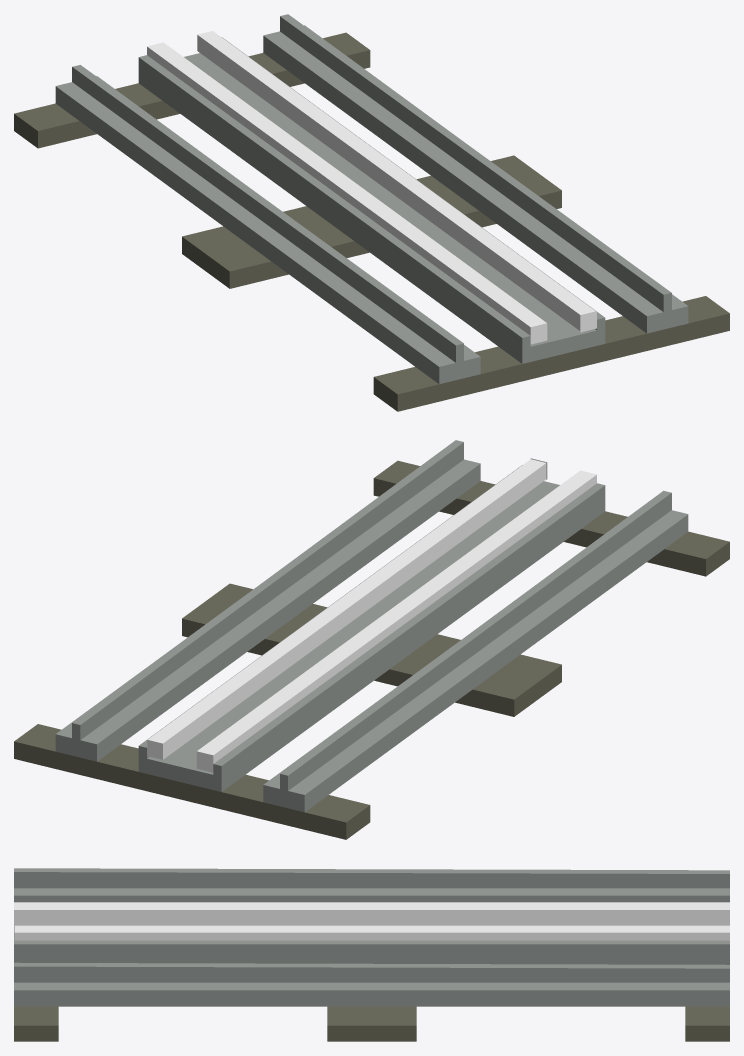
File: Track Straight_LOD2.gltf
The picture shows the model from 3 angles, top to bottom: view 1: azimuth 30°, elevation 25°; view 2: azimuth 150°, elevation 25°; view 3: azimuth 270°, elevation 25°; orthographic projection. The views are drawn at different scales.
Visible parts, largest first — view 1: 3228b.dat, 3228b.dat.001, 3240b.dat, 3240b.dat.001, 3460.dat, 767.dat, 3460.dat.001; view 2: 3228b.dat, 3228b.dat.001, 3240b.dat, 3240b.dat.001, 3460.dat.001, 767.dat, 3460.dat; view 3: 3228b.dat.001, 3240b.dat, 3228b.dat, 3240b.dat.001, 767.dat, 3460.dat, 3460.dat.001.
Part boxes in pixels (x1,y1,x2,y2): 3228b.dat: (55,65,480,384); 3228b.dat.001: (263,14,688,333); 3240b.dat: (147,31,596,344); 3240b.dat.001: (138,37,605,363); 3460.dat: (373,296,729,411); 767.dat: (182,155,561,288); 3460.dat.001: (14,32,370,148); 3228b.dat: (263,490,688,812); 3228b.dat.001: (55,440,480,761); 3240b.dat: (147,458,596,772); 3240b.dat.001: (138,465,605,791); 3460.dat.001: (14,724,370,839); 767.dat: (182,583,561,716); 3460.dat: (373,460,729,576); 3228b.dat.001: (14,962,729,1006); 3240b.dat: (14,902,729,940); 3228b.dat: (14,868,729,902); 3240b.dat.001: (14,926,729,964); 767.dat: (327,1006,416,1041); 3460.dat: (14,1006,58,1041); 3460.dat.001: (685,1006,729,1041).
Bounding box in the file's own units: 64 × 9.6 × 128.
1 material, 1 textured.
